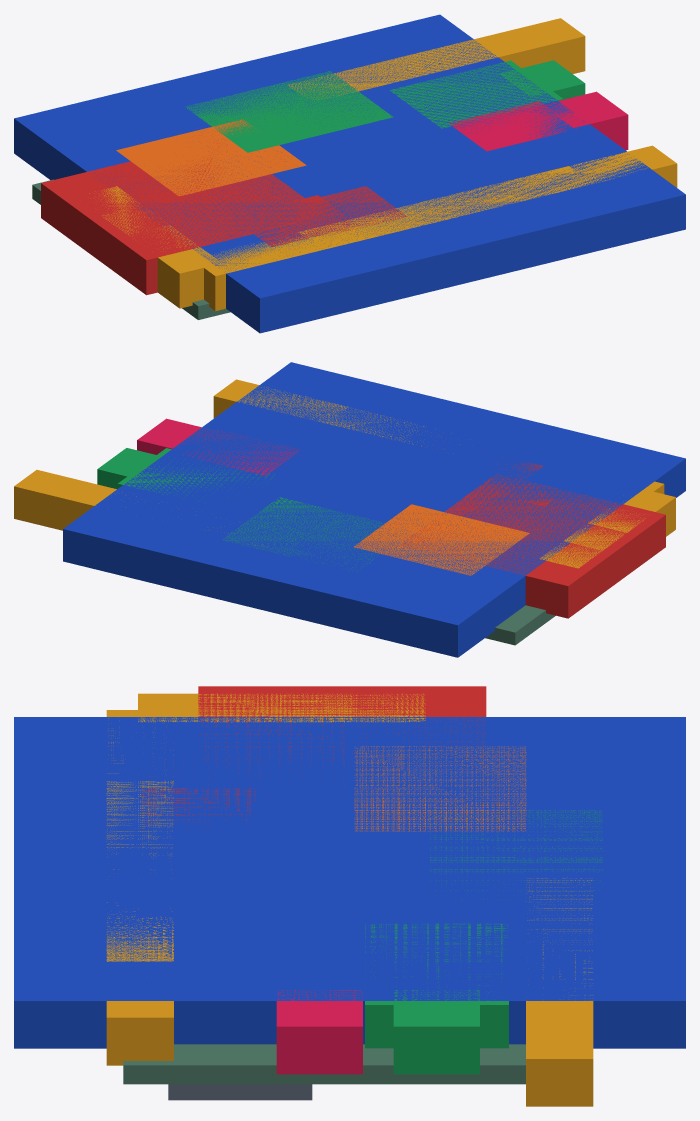
File: BeeBoard_v0_1_Micro_before_fpga_gold.glb
The picture shows the model from 3 angles, top to bottom: view 1: azimuth 30°, elevation 25°; view 2: azimuth 150°, elevation 25°; view 3: azimuth 270°, elevation 25°; orthographic projection. The views are drawn at different scales.
Parts seen in each view (by area): view 1: =>[0:1:1:3], =>[0:1:1:9], =>[0:1:1:7], =>[0:1:1:25], =>[0:1:1:5], =>[0:1:1:13], =>[0:1:1:29], =>[0:1:1:11] (×2), =>[0:1:1:27], =>[0:1:1:31] (×2), =>[0:1:1:23] (×2), =>[0:1:1:15] (+3 smaller); view 2: =>[0:1:1:3], =>[0:1:1:9], =>[0:1:1:5], =>[0:1:1:25], =>[0:1:1:7], =>[0:1:1:23] (×3), =>[0:1:1:31], =>[0:1:1:19], =>[0:1:1:32], =>[0:1:1:17], =>[0:1:1:13], =>[0:1:1:15]; view 3: =>[0:1:1:3], =>[0:1:1:32], =>[0:1:1:9], =>[0:1:1:25], =>[0:1:1:23] (×3), =>[0:1:1:17], =>[0:1:1:19], =>[0:1:1:5], =>[0:1:1:31] (×2), =>[0:1:1:13], =>[0:1:1:21], =>[0:1:1:7] (+2 smaller).
Boxes of the visible parts, x1=… form: =>[0:1:1:3]: x1=14, y1=14, x2=685, y2=333; =>[0:1:1:9]: x1=41, y1=143, x2=328, y2=295; =>[0:1:1:7]: x1=186, y1=71, x2=393, y2=152; =>[0:1:1:25]: x1=288, y1=18, x2=585, y2=99; =>[0:1:1:5]: x1=116, y1=119, x2=306, y2=196; =>[0:1:1:13]: x1=389, y1=60, x2=563, y2=128; =>[0:1:1:29]: x1=198, y1=198, x2=469, y2=311; =>[0:1:1:11] (×2): x1=251, y1=186, x2=406, y2=246; =>[0:1:1:27]: x1=298, y1=182, x2=564, y2=245; =>[0:1:1:31] (×2): x1=450, y1=145, x2=677, y2=213; =>[0:1:1:23] (×2): x1=89, y1=186, x2=221, y2=308; =>[0:1:1:15]: x1=449, y1=101, x2=576, y2=151; =>[0:1:1:3]: x1=63, y1=362, x2=685, y2=657; =>[0:1:1:9]: x1=400, y1=474, x2=665, y2=618; =>[0:1:1:5]: x1=353, y1=504, x2=529, y2=575; =>[0:1:1:25]: x1=14, y1=470, x2=255, y2=545; =>[0:1:1:7]: x1=222, y1=497, x2=382, y2=569; =>[0:1:1:23] (×3): x1=539, y1=492, x2=675, y2=568; =>[0:1:1:31]: x1=213, y1=379, x2=348, y2=421; =>[0:1:1:19]: x1=97, y1=448, x2=161, y2=489; =>[0:1:1:32]: x1=485, y1=605, x2=555, y2=645; =>[0:1:1:17]: x1=137, y1=418, x2=213, y2=454; =>[0:1:1:13]: x1=117, y1=448, x2=274, y2=501; =>[0:1:1:15]: x1=183, y1=430, x2=300, y2=475; =>[0:1:1:3]: x1=14, y1=717, x2=685, y2=1048; =>[0:1:1:32]: x1=123, y1=1044, x2=525, y2=1084; =>[0:1:1:9]: x1=198, y1=686, x2=486, y2=802; =>[0:1:1:25]: x1=526, y1=878, x2=593, y2=1106; =>[0:1:1:23] (×3): x1=138, y1=693, x2=425, y2=722; =>[0:1:1:17]: x1=276, y1=990, x2=362, y2=1074; =>[0:1:1:19]: x1=393, y1=990, x2=479, y2=1074; =>[0:1:1:5]: x1=354, y1=746, x2=526, y2=831; =>[0:1:1:31] (×2): x1=106, y1=905, x2=173, y2=1065; =>[0:1:1:13]: x1=365, y1=923, x2=508, y2=1048; =>[0:1:1:21]: x1=168, y1=1084, x2=312, y2=1100; =>[0:1:1:7]: x1=430, y1=810, x2=602, y2=901.
Bounding box in the file's own units: 0.0233 × 0.00309 × 0.0178.
